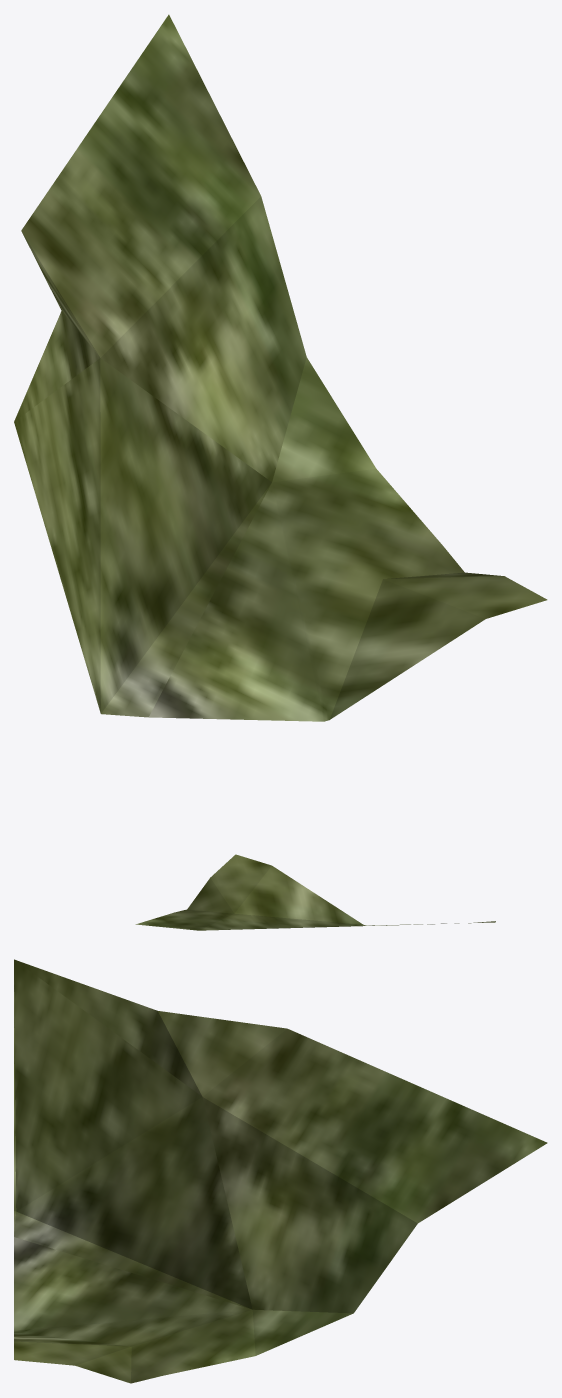
The picture shows the model from 3 angles, top to bottom: view 1: azimuth 30°, elevation 25°; view 2: azimuth 150°, elevation 25°; view 3: azimuth 270°, elevation 25°; orthographic projection. The views are drawn at different scales.
Bounding box in the file's own units: 0.8253 × 0.5545 × 1.01.
1 material, 1 textured.
